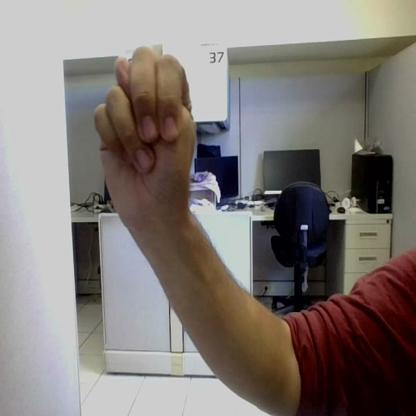N: (95, 48, 194, 223)
